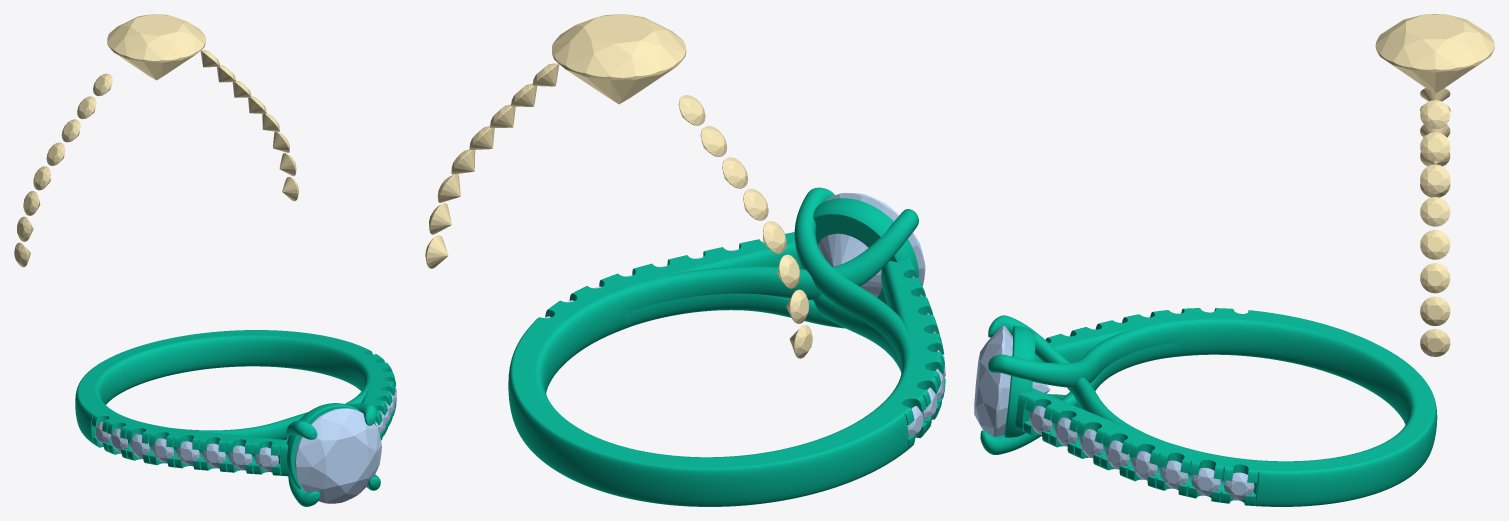
3 views of the same model, side by side, from view 1: azimuth 30°, elevation 25°; view 2: azimuth 150°, elevation 25°; view 3: azimuth 270°, elevation 25° (orthographic). The views are drawn at different scales.
Visible parts, largest first — view 1: JTC 5922(base).3dm, Diamond_Round (×2); view 2: JTC 5922(base).3dm, Diamond_Round (×8); view 3: JTC 5922(base).3dm, Diamond_Round (×12).
Part boxes in pixels (x1,y1,x2,y2): JTC 5922(base).3dm: (75, 330, 396, 506); Diamond_Round (×2): (107, 14, 381, 503); JTC 5922(base).3dm: (508, 187, 945, 506); Diamond_Round (×8): (552, 14, 925, 297); JTC 5922(base).3dm: (980, 308, 1437, 506); Diamond_Round (×12): (974, 14, 1494, 499).
Size of the model in its own units: 2.51 by 2.98 by 3.38.
